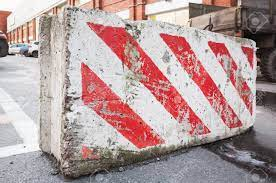obstacle: (35, 10, 262, 167)
